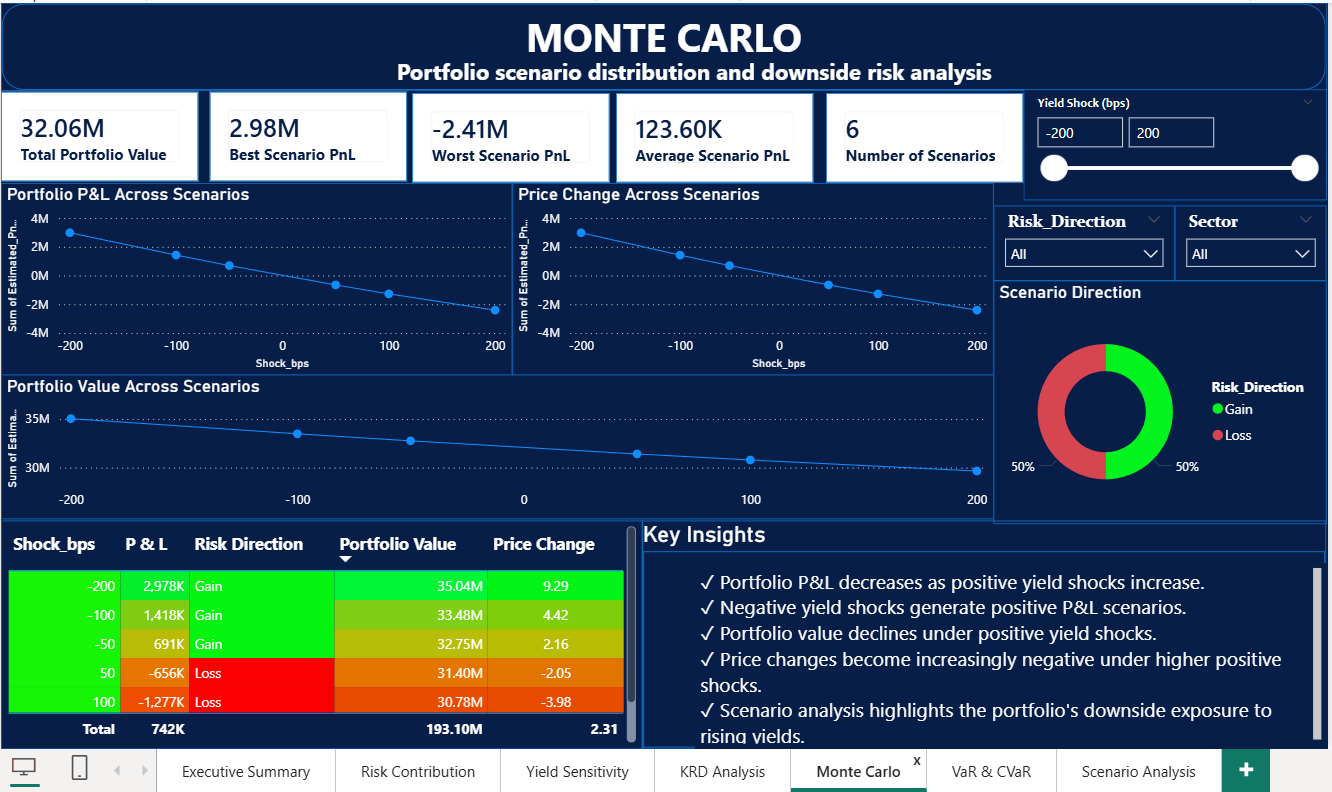

What the dashboard file says about the page in this screenshot:
{"tool":"powerbi","page":{"name":"Monte Carlo","canvas":[1280,720],"ordinal":4},"visuals":[{"type":"lineChart","title":"Portfolio Value Across Scenarios","fields":{"Category":["Scenario Summary.Shock_bps"],"Y":["Sum(Scenario Summary.Estimated_Portfolio_Value)"]},"box":[0,357.7,958.2,140.3],"z":0},{"type":"shape","title":" MONTE CARLO  ","box":[0,0,1279.7,85.1],"z":1000},{"type":"textbox","title":"Portfolio scenario distribution and downside risk analysis ","box":[313.6,50.4,710.8,31.5],"z":2000},{"type":"cardVisual","fields":{"Data":["Portfolio Summary.Total Portfolio Value"]},"box":[0,85.1,190.7,86.7],"z":3000},{"type":"cardVisual","fields":{"Data":["Portfolio Summary.Best Scenario PnL"]},"box":[201.7,85.1,190.7,86.7],"z":4000},{"type":"cardVisual","fields":{"Data":["Portfolio Summary.Worst Scenario PnL"]},"box":[397.1,86.7,190.7,86.7],"z":5000},{"type":"cardVisual","fields":{"Data":["Portfolio Summary.Average Scenario PnL"]},"box":[594.1,86.7,190.7,86.7],"z":6000},{"type":"cardVisual","fields":{"Data":["Portfolio Summary.Number of Scenarios"]},"box":[795.9,86.7,190.7,86.7],"z":7000},{"type":"lineChart","title":"Portfolio P&L Across Scenarios","fields":{"Category":["Scenario Summary.Shock_bps"],"Y":["Sum(Scenario Summary.Estimated_PnL_INR)"]},"box":[0,173.4,493.3,186],"z":8000},{"type":"lineChart","title":"Price Change Across Scenarios","fields":{"Category":["Scenario Summary.Shock_bps"],"Y":["Sum(Scenario Summary.Estimated_PnL_INR)"]},"box":[493.3,173.4,464.9,186],"z":9000},{"type":"donutChart","title":"Scenario Direction","fields":{"Category":["Scenario Summary.Risk_Direction"],"Y":["Portfolio Summary.Scenario Count"]},"box":[958.2,267.9,321.5,234.8],"z":10000},{"type":"tableEx","title":"Price Change Across Scenarios","fields":{"Values":["Scenario Summary.Shock_bps","Sum(Scenario Summary.Estimated_PnL_INR)","Scenario Summary.Risk_Direction","Sum(Scenario Summary.Estimated_Portfolio_Value)","Sum(Scenario Summary.Estimated_Price_Change_%)"]},"box":[0,499.6,619.4,220.6],"z":11000},{"type":"slicer","fields":{"Values":["Scenario Summary.Shock_bps"]},"box":[986.6,83.5,293.1,107.2],"z":12000},{"type":"slicer","fields":{"Values":["Scenario Summary.Risk_Direction"]},"box":[958.2,195.4,174.9,72.5],"z":13000},{"type":"slicer","fields":{"Values":["Sector Risk.Sector"]},"box":[1133.1,195.4,146.6,72.5],"z":14000},{"type":"shape","title":"Key Insights","box":[619.4,499.6,660.3,220.6],"z":15000},{"type":"textbox","box":[669.8,540.6,609.9,179.7],"z":16000}]}

Visuals, with their boxes on the page's 1280x720 design canvas (x1, y1, x2, y2). These are canvas units, not pixel positions in the 1332x792 screenshot, which may show the page scaled, cropped or inside an application window:
"Portfolio Value Across Scenarios" lineChart: 0/358/958/498
" MONTE CARLO  " shape: 0/0/1280/85
"Portfolio scenario distribution and downside risk analysis " textbox: 314/50/1024/82
cardVisual - Portfolio Summary.Total Portfolio Value: 0/85/191/172
cardVisual - Portfolio Summary.Best Scenario PnL: 202/85/392/172
cardVisual - Portfolio Summary.Worst Scenario PnL: 397/87/588/173
cardVisual - Portfolio Summary.Average Scenario PnL: 594/87/785/173
cardVisual - Portfolio Summary.Number of Scenarios: 796/87/987/173
"Portfolio P&L Across Scenarios" lineChart: 0/173/493/359
"Price Change Across Scenarios" lineChart: 493/173/958/359
"Scenario Direction" donutChart: 958/268/1280/503
"Price Change Across Scenarios" tableEx: 0/500/619/720
slicer - Scenario Summary.Shock_bps: 987/84/1280/191
slicer - Scenario Summary.Risk_Direction: 958/195/1133/268
slicer - Sector Risk.Sector: 1133/195/1280/268
"Key Insights" shape: 619/500/1280/720
textbox: 670/541/1280/720
